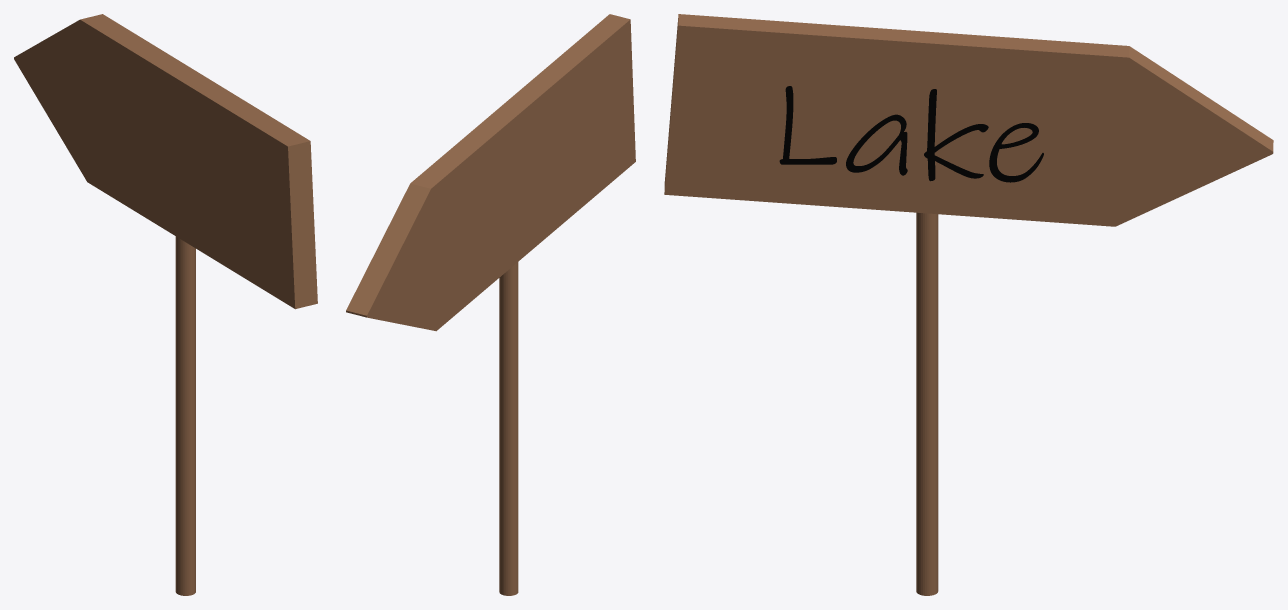
Rendered from lakesign.fbx.
3 renders of one model, left to right at view 1: azimuth 30°, elevation 25°; view 2: azimuth 150°, elevation 25°; view 3: azimuth 270°, elevation 25°, orthographic. The views are drawn at different scales.
Visible parts, largest first — view 1: Cube, Cylinder; view 2: Cube, Cylinder; view 3: Cube, Cylinder, Text.
Boxes of the visible parts, x1,y1,x2,y2 form: Cube: (14, 14, 317, 309); Cylinder: (175, 236, 195, 595); Cube: (346, 14, 635, 331); Cylinder: (499, 262, 518, 595); Cube: (664, 14, 1273, 226); Cylinder: (916, 212, 938, 595); Text: (779, 86, 1043, 182).
Size of the model in its own units: 20.04 by 317 by 307.
